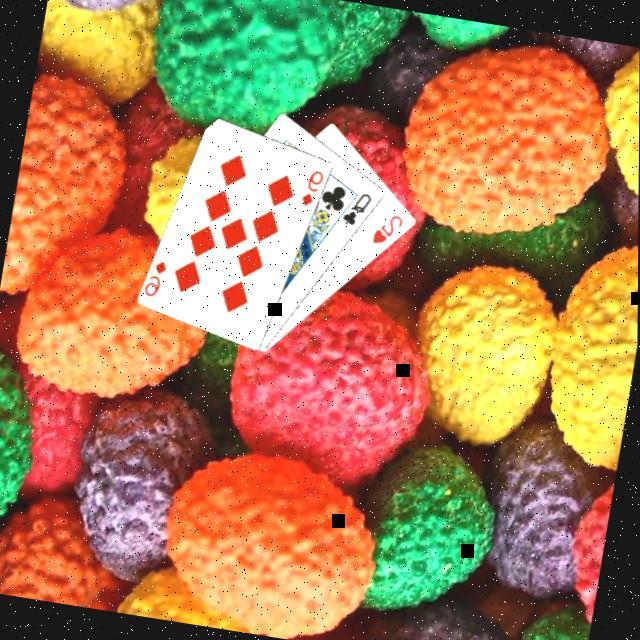2H: (367, 210, 406, 251)
9D: (296, 166, 325, 212), (140, 256, 169, 302)
QC: (337, 187, 375, 232)
